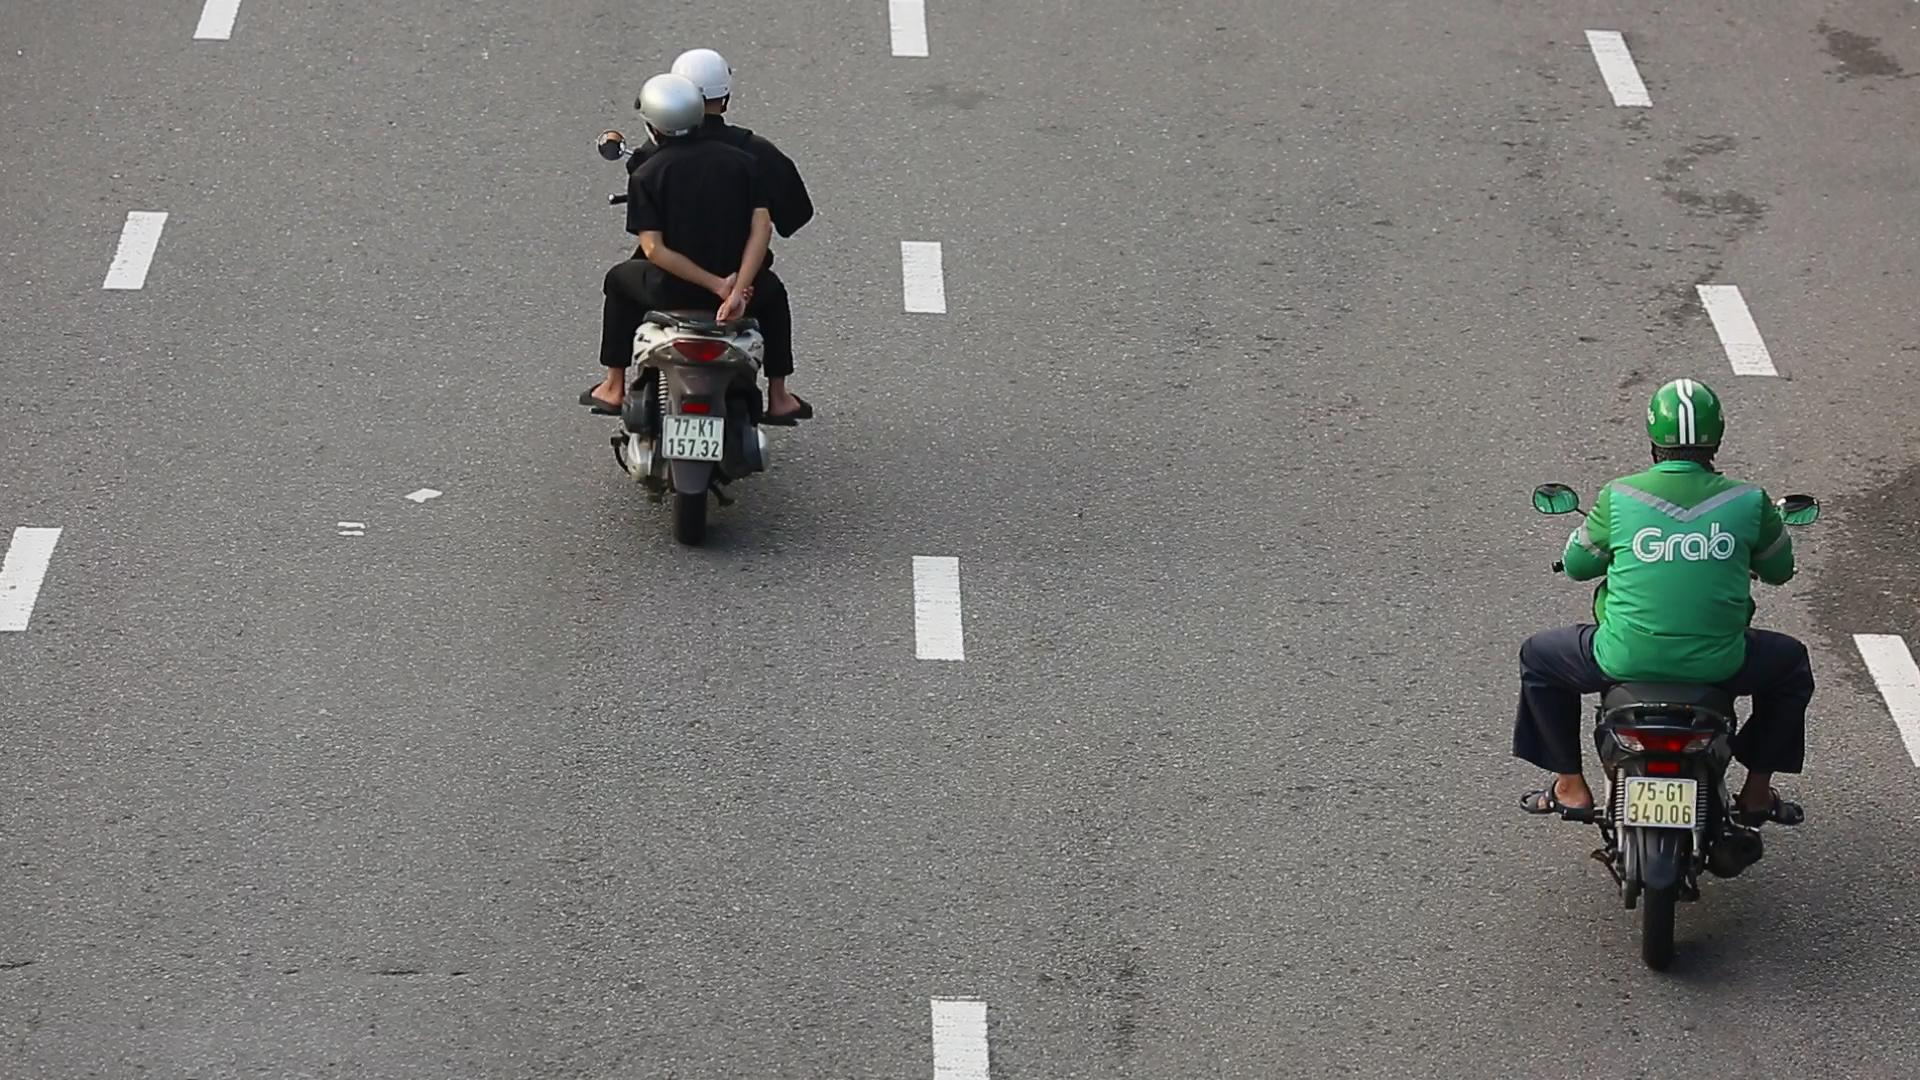motobike: (1505, 372, 1822, 976), (572, 45, 828, 558)
